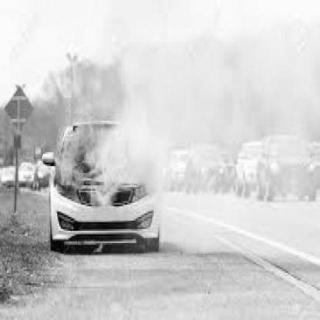Fire: (53, 102, 94, 190), (87, 228, 105, 260)
